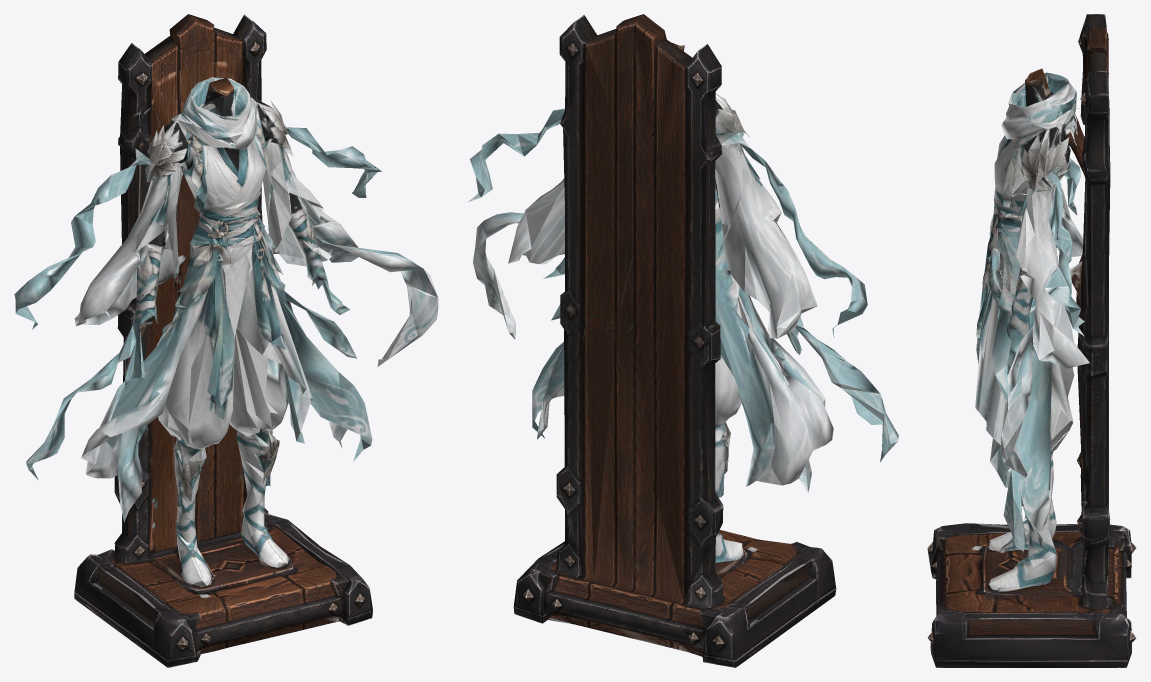
The model's file is armor-stand-wind.glb.
3 views of the same model, side by side, from view 1: azimuth 30°, elevation 25°; view 2: azimuth 150°, elevation 25°; view 3: azimuth 270°, elevation 25° (orthographic). The views are drawn at different scales.
Size of the model in its own units: 1.48 by 2 by 0.6429.
1 material, 1 textured.
